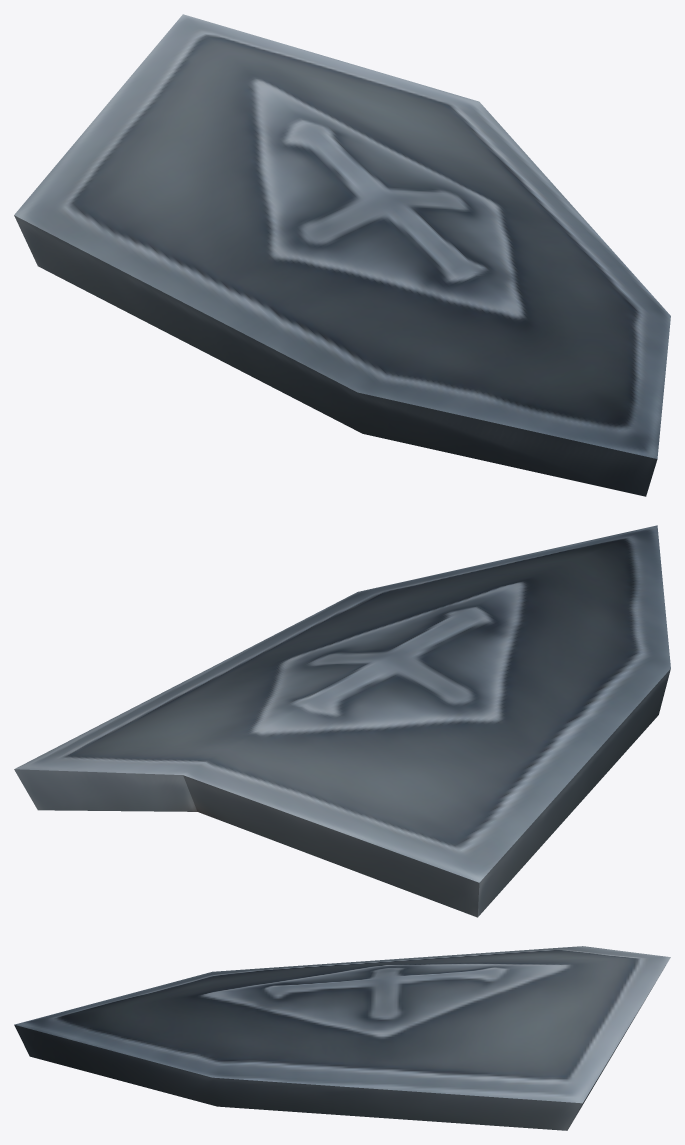
The model's file is Vampire_Village_Props_05.FBX.
3 views of the same model, one above another, from view 1: azimuth 30°, elevation 25°; view 2: azimuth 150°, elevation 25°; view 3: azimuth 270°, elevation 25° (orthographic). The views are drawn at different scales.
Visible parts, largest first — view 1: Vampire_Village_Props_05; view 2: Vampire_Village_Props_05; view 3: Vampire_Village_Props_05.
Part boxes in pixels (x1,y1,x2,y2): Vampire_Village_Props_05: (14, 14, 670, 496); Vampire_Village_Props_05: (14, 525, 670, 917); Vampire_Village_Props_05: (14, 946, 670, 1130).
Bounding box in the file's own units: 75.34 × 22.22 × 133.
